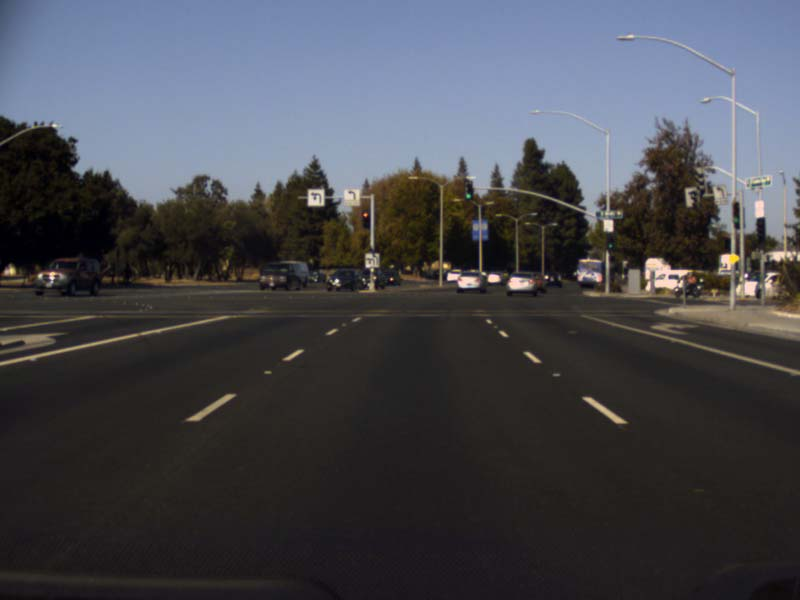Green: (731, 201, 739, 228), (605, 232, 614, 250), (464, 181, 472, 201)
Red: (360, 208, 370, 229)
